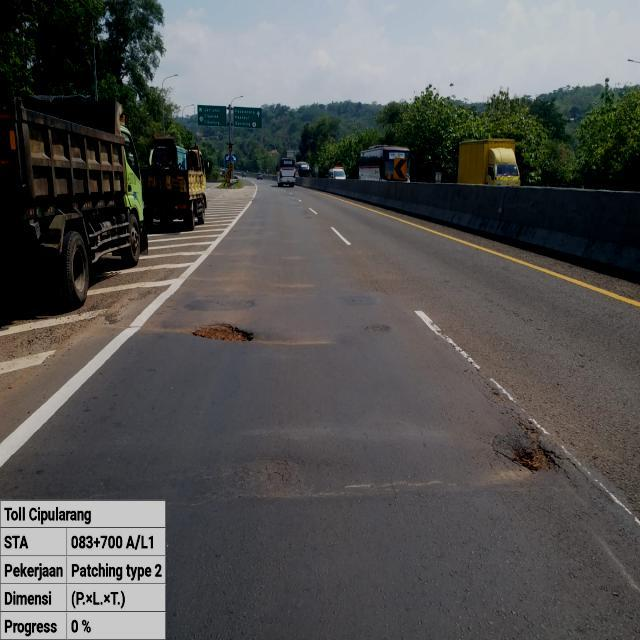Buraco: (508, 419, 566, 475), (188, 321, 256, 344)
